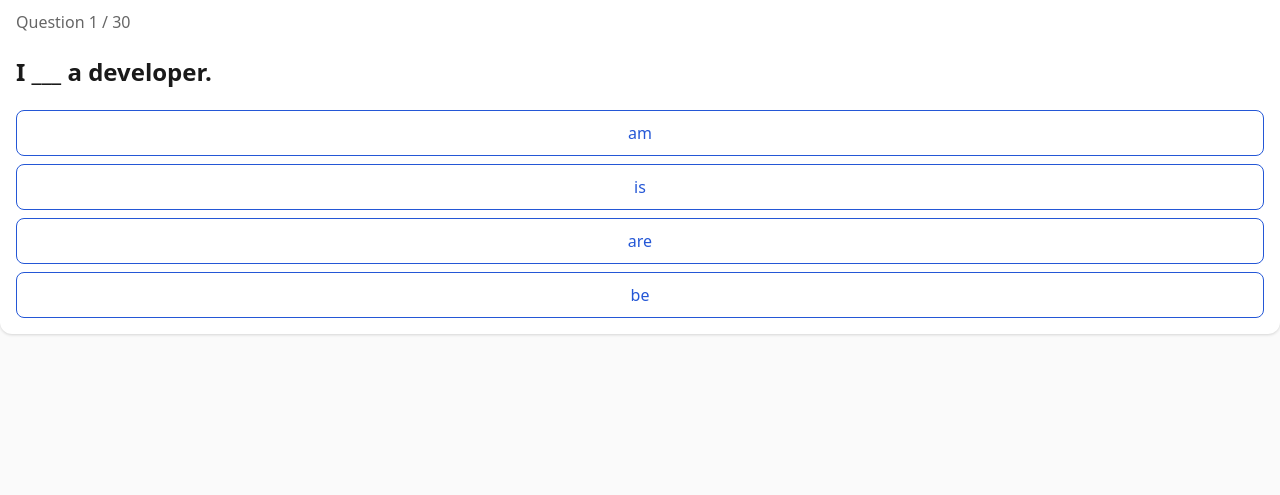
Test: grammaire : un seul choix possible (pas de double réponse)
Click the button "is".
click(640, 187)  # box 16,164 -> 1264,210
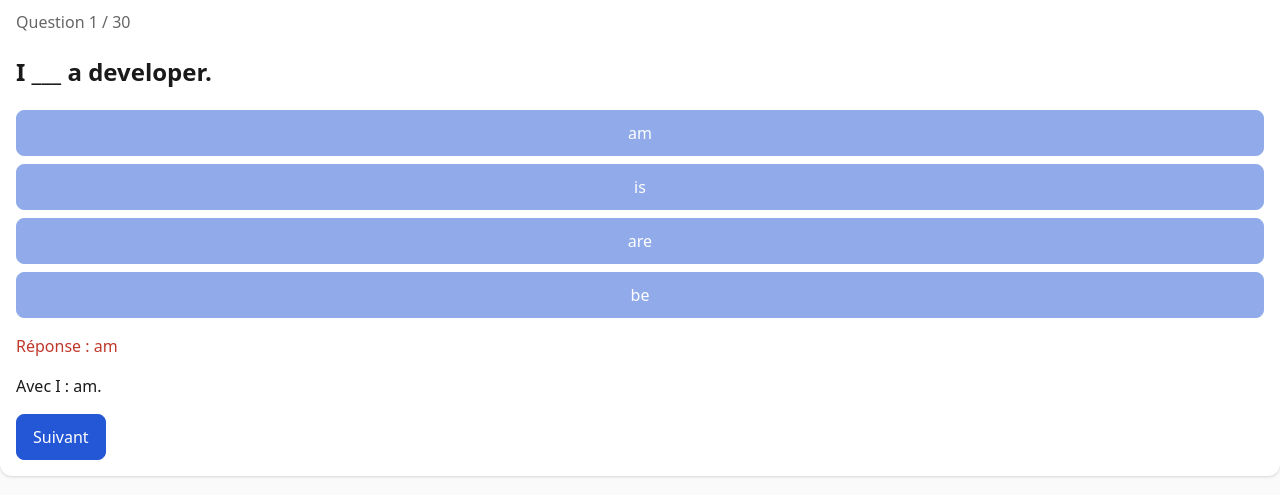
Expected: the button "am" is disabled, 16,110 -> 1264,156
